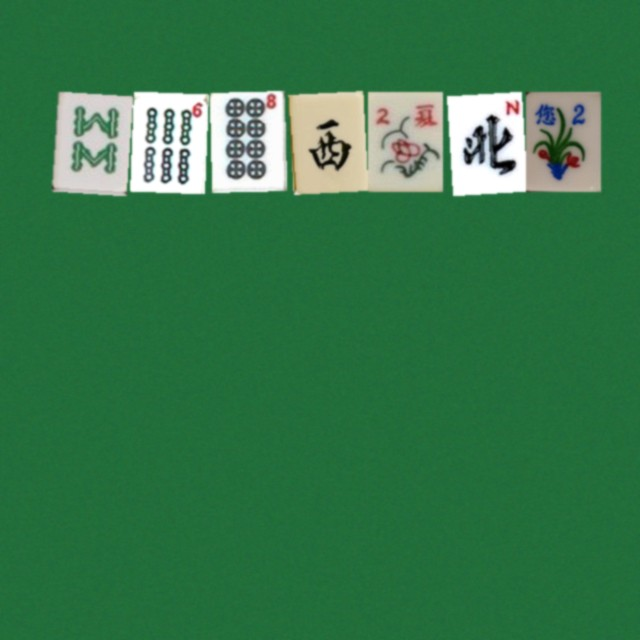tile: (51, 91, 126, 191), (130, 91, 205, 191), (209, 91, 284, 191), (288, 91, 363, 191), (367, 91, 442, 191), (446, 91, 521, 191), (525, 91, 600, 191)
